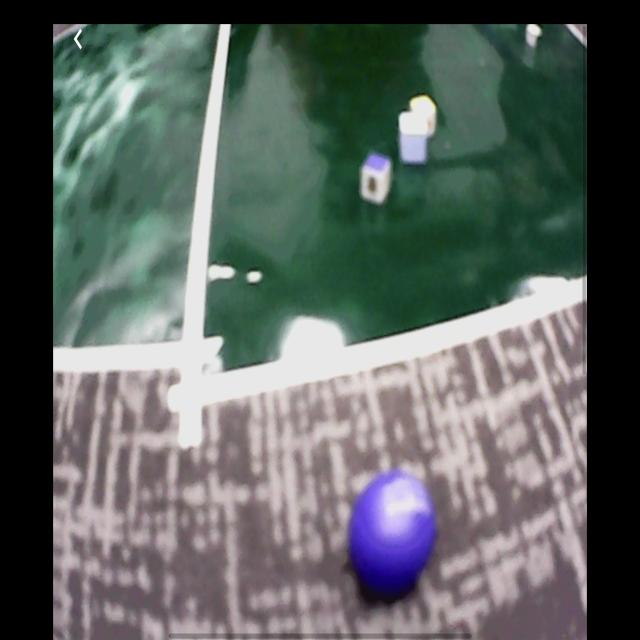ball: (350, 472, 438, 598)
